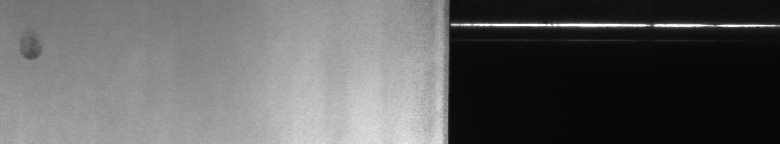fi: (16, 37, 43, 65)
